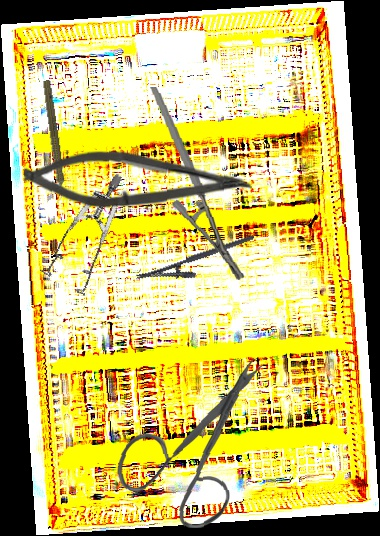Handpiece: (37, 79, 70, 204)
Iris Scissors: (110, 355, 275, 532)
Micro Scissor: (23, 147, 253, 209)
Needle Holder: (149, 80, 247, 287), (134, 234, 261, 296)
Speculum: (17, 171, 165, 310)
